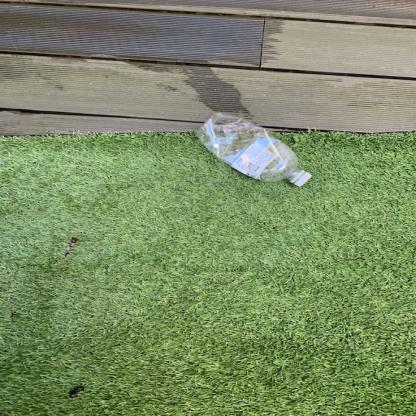trash: (196, 114, 314, 191)
